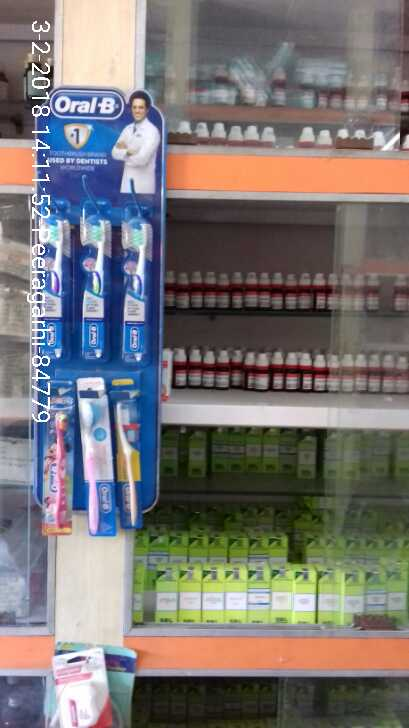oralb: (75, 379, 114, 533), (108, 370, 144, 531), (79, 197, 112, 360), (121, 200, 149, 363)
